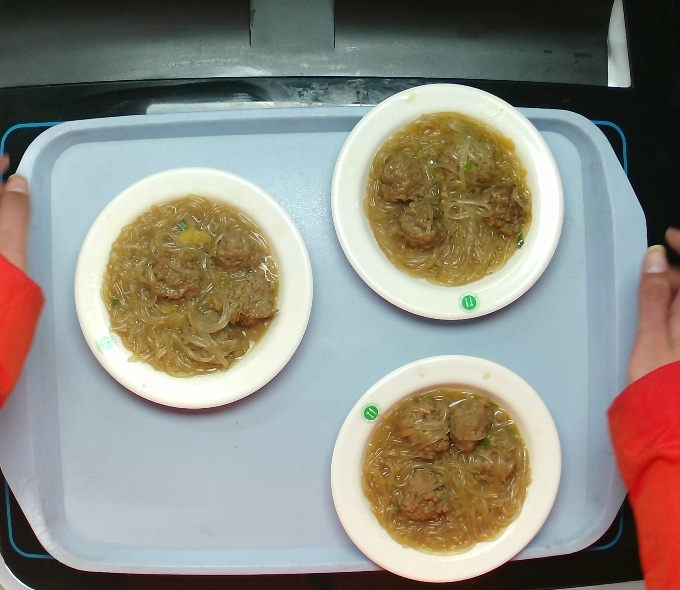wcq-FenSiNiuRouWan: (97, 188, 293, 385), (360, 101, 542, 293), (358, 378, 535, 555)
